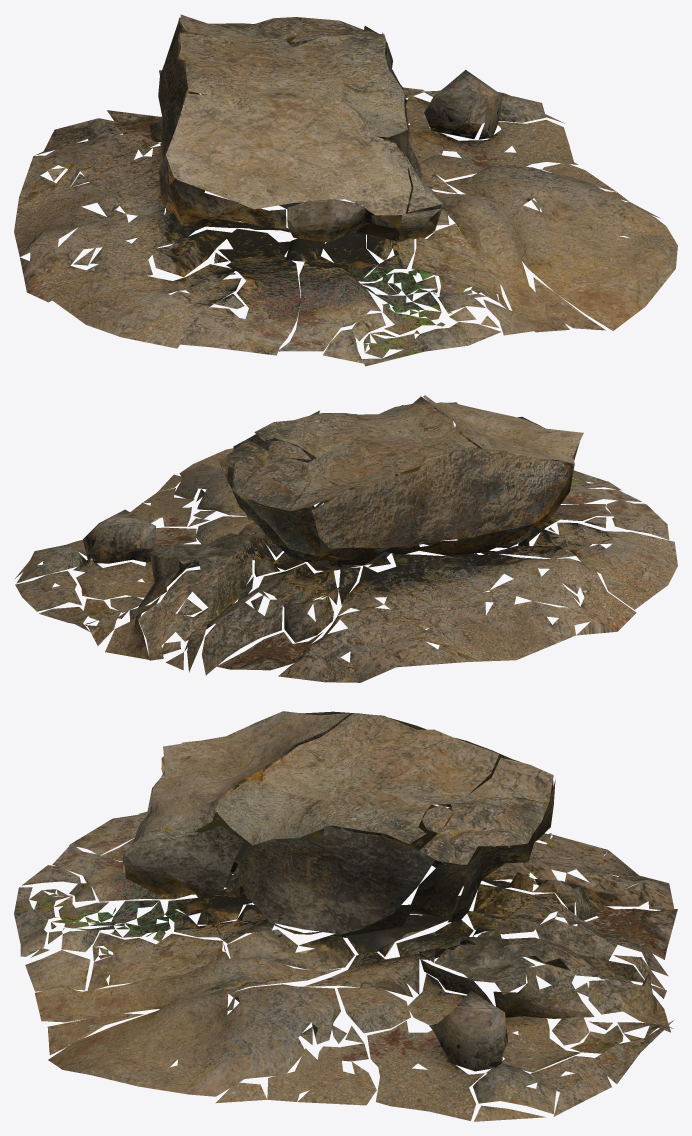
The model's file is coast_rocks_05.glb.
3 views of the same model, one above another, from view 1: azimuth 30°, elevation 25°; view 2: azimuth 150°, elevation 25°; view 3: azimuth 270°, elevation 25° (orthographic). The views are drawn at different scales.
Visible parts, largest first — view 1: coast_rocks_05; view 2: coast_rocks_05; view 3: coast_rocks_05.
Part boxes in pixels (x1,y1,x2,y2): coast_rocks_05: (14, 14, 677, 366); coast_rocks_05: (15, 395, 677, 682); coast_rocks_05: (14, 711, 677, 1121).
Bounding box in the file's own units: 4.01 × 1.32 × 3.75.
Materials: 1 (1 with a texture image).
